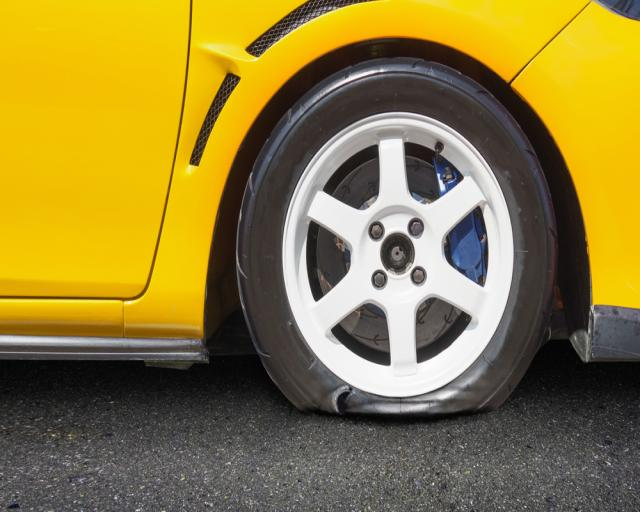tire flat: (238, 56, 560, 415)
